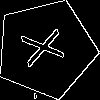X: (21, 24, 75, 68)
